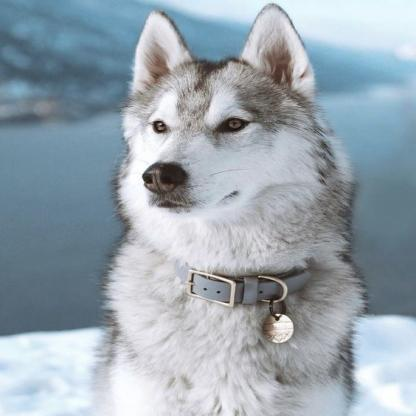husky: (100, 3, 366, 416)
